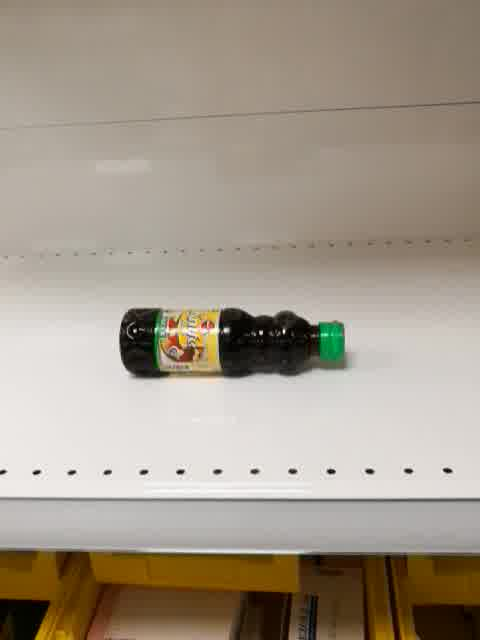cookingoil: (117, 306, 350, 380)
